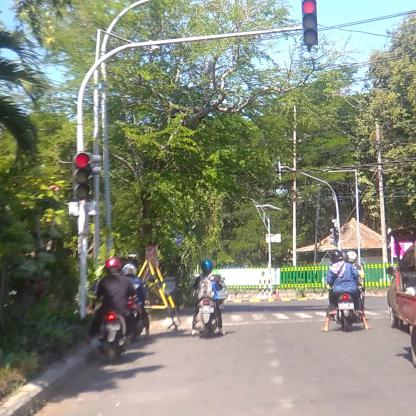red: (71, 153, 89, 201), (300, 1, 319, 46)
